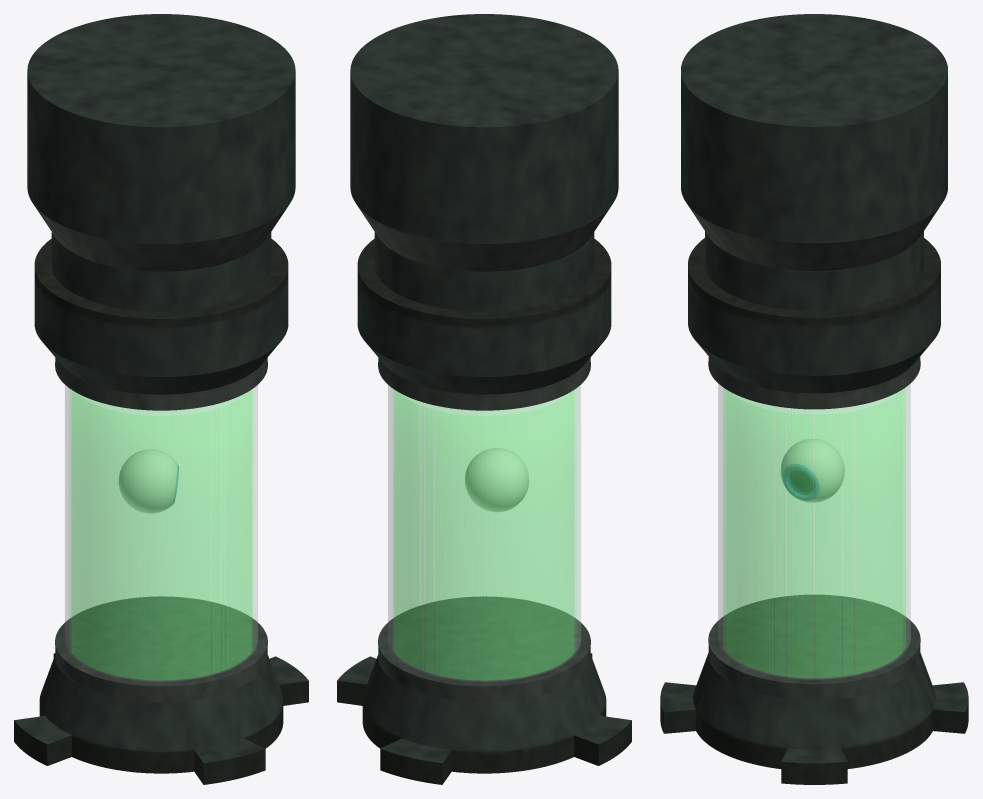
Rendered from labo-cuve-sombre-unity 1.glb.
The picture shows the model from 3 angles, left to right: view 1: azimuth 30°, elevation 25°; view 2: azimuth 150°, elevation 25°; view 3: azimuth 270°, elevation 25°; orthographic projection.
Parts seen in each view (by area): view 1: Chassis graphite, Vitre, Liquide vert, Oeil bleu; view 2: Chassis graphite, Vitre, Liquide vert, Oeil bleu; view 3: Chassis graphite, Vitre, Liquide vert, Oeil bleu.
Part boxes in pixels (x1,y1,x2,y2): Chassis graphite: (14, 14, 308, 784); Vitre: (65, 385, 257, 681); Liquide vert: (71, 389, 252, 680); Oeil bleu: (119, 449, 178, 513); Chassis graphite: (337, 14, 631, 784); Vitre: (388, 385, 580, 681); Liquide vert: (393, 389, 574, 680); Oeil bleu: (465, 448, 528, 511); Chassis graphite: (660, 14, 968, 784); Vitre: (718, 384, 910, 679); Liquide vert: (723, 388, 905, 677); Oeil bleu: (781, 439, 844, 502).
Bounding box in the file's own units: 2.91 × 6.78 × 2.91.
7 materials, 4 textured.
